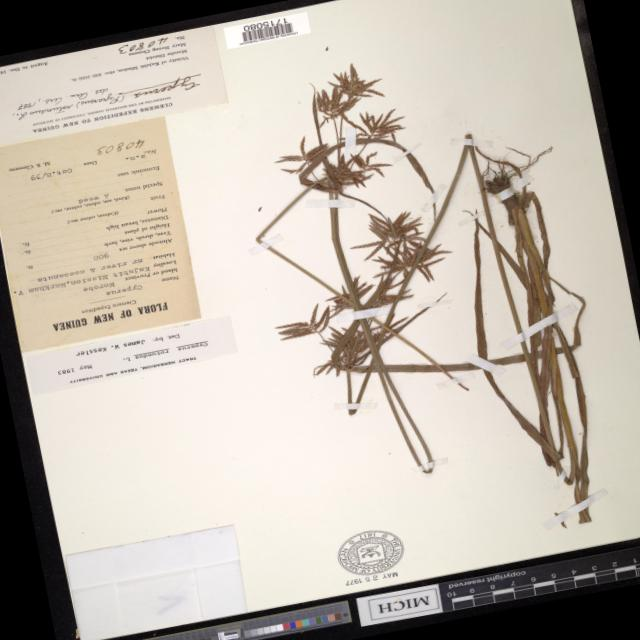cyperus: (252, 208, 478, 384), (244, 48, 432, 215)
